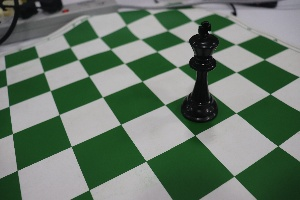black_king: (171, 12, 229, 131)
